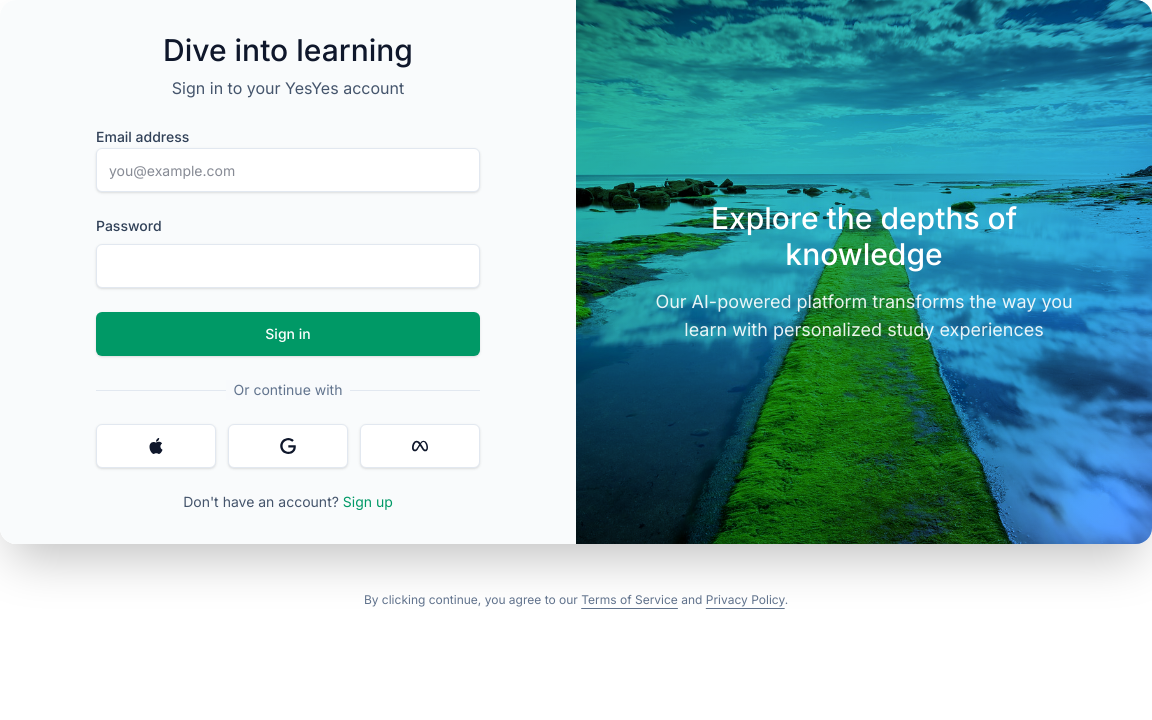
Test: LoginForm › Authentication Flow › validates required fields
Click the button "Sign in" at (288, 334), box [96,312,480,356]
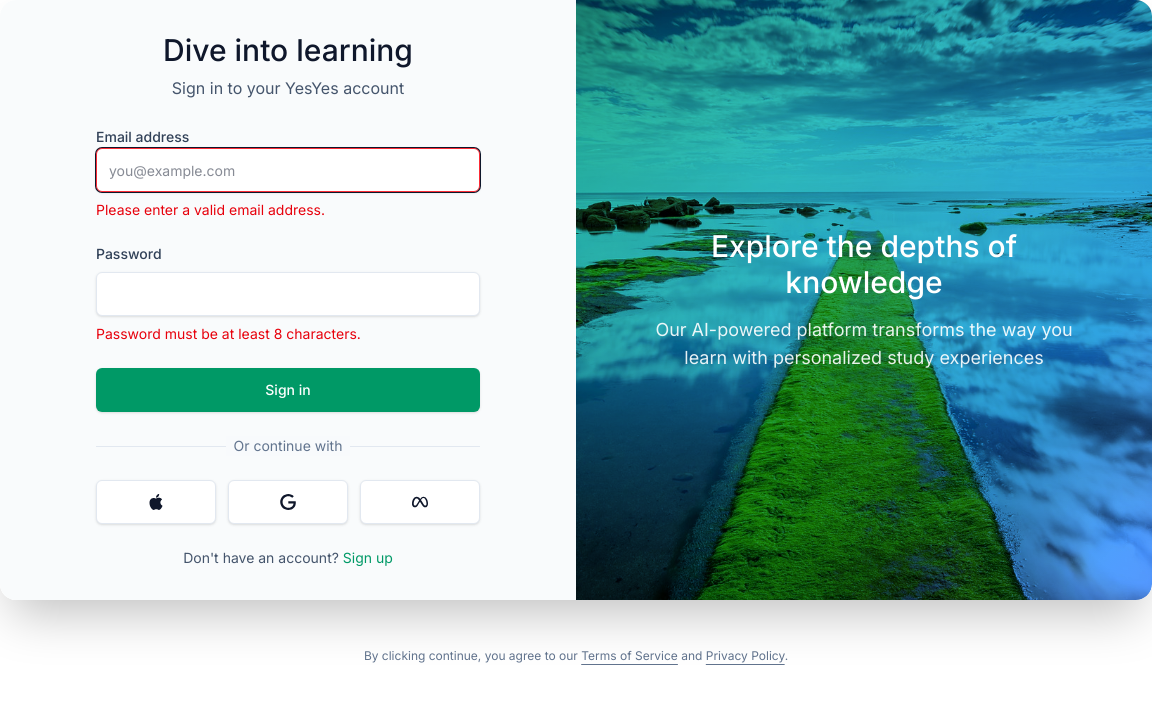
expect the text "Please enter a valid email address." is shown: met, box [96,201,325,218]
expect the text "Password must be at least 8 characters." is shown: met, box [96,325,361,342]
